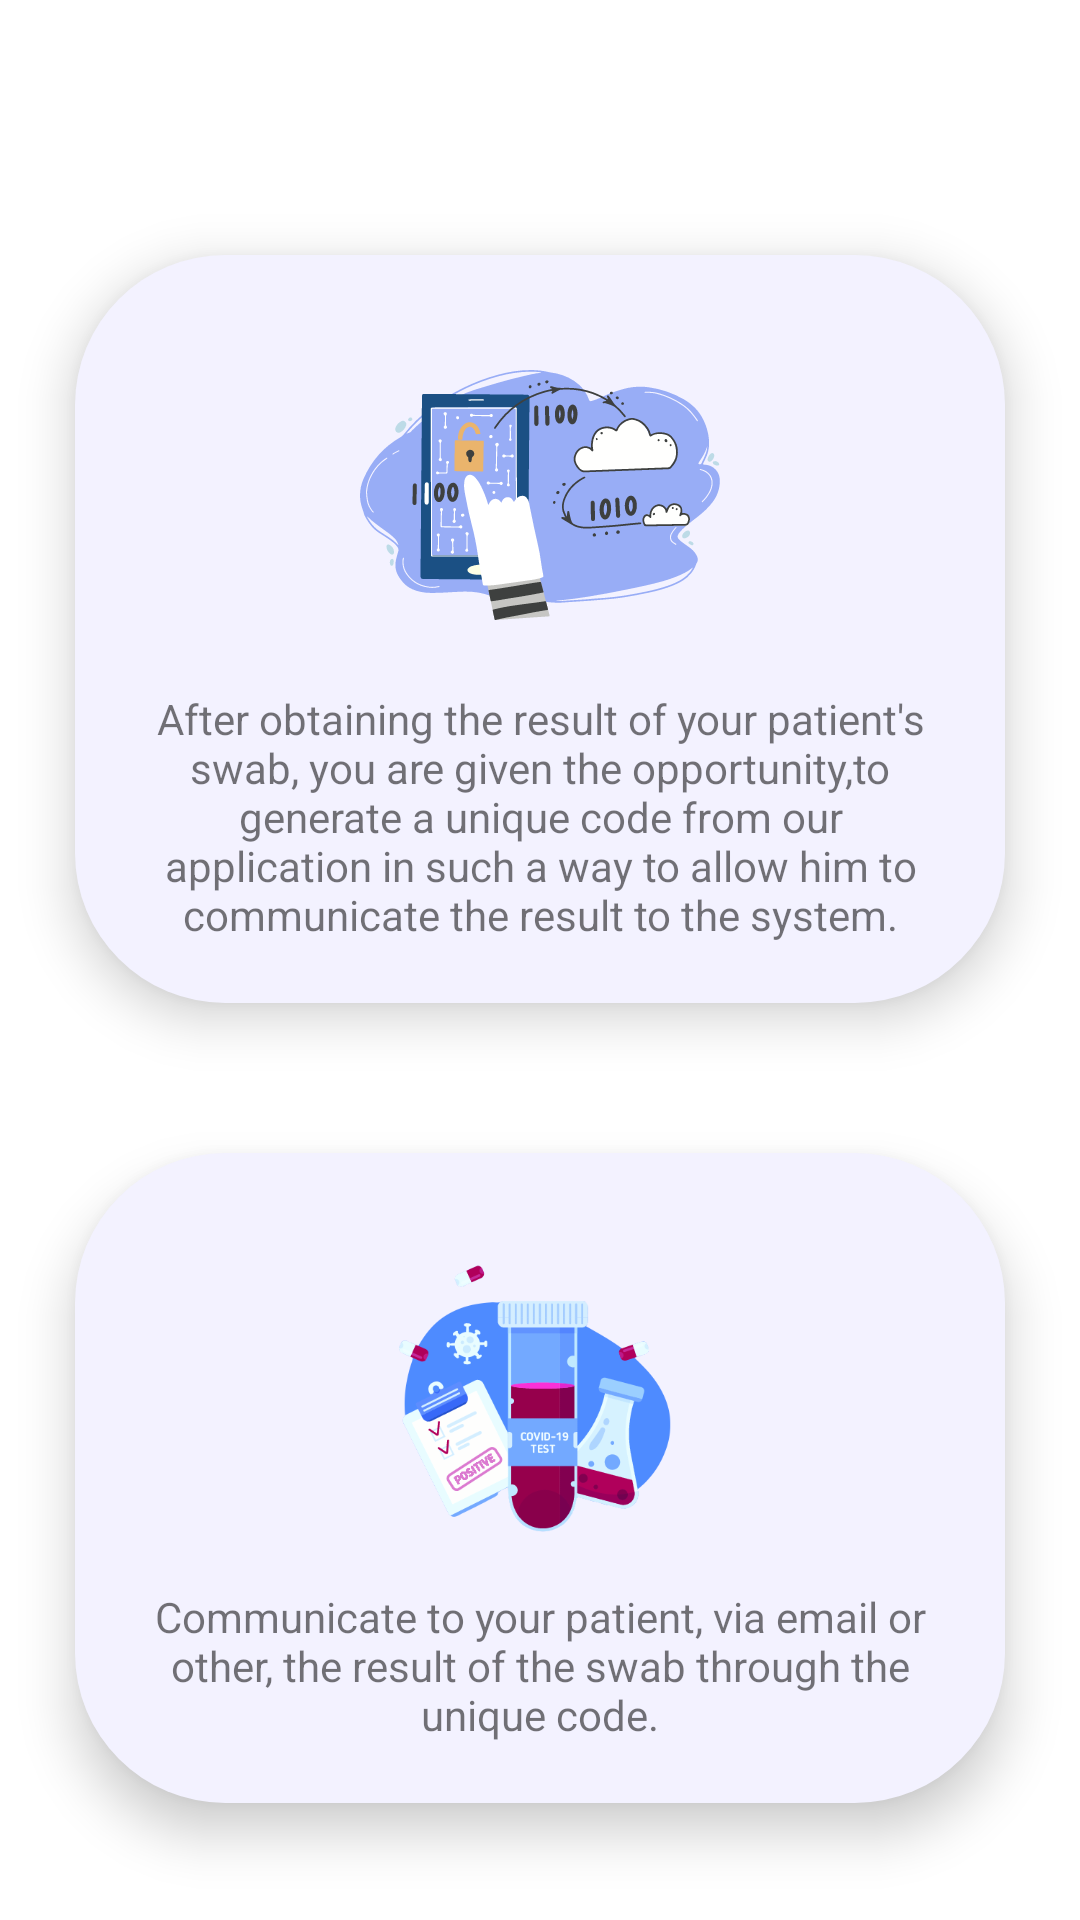

Where to tap for icons on this 1080x1920 app screen, as (x,y):
random code generation: (540,495)
